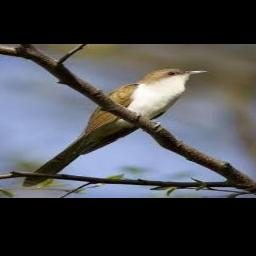Cuckoo: (21, 69, 209, 186)
